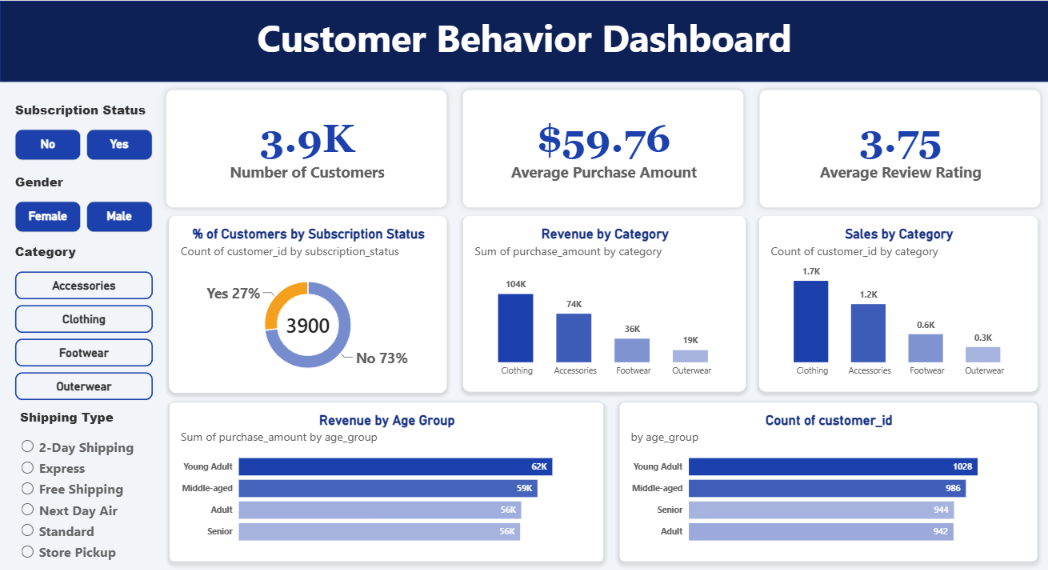

The page's visual inventory and layout, read from the dashboard file:
{"tool":"powerbi","page":{"name":"Page 1","canvas":[1500,820],"ordinal":0},"visuals":[{"type":"cardVisual","fields":{"Data":["public customer.Number of Customers","public customer.Average Purchase Amount","public customer.Average Review Rating"]},"box":[225.7,115.7,1274.3,191.4],"z":2000},{"type":"shape","box":[0,0,1498.6,115.7],"z":3000},{"type":"textbox","box":[0,15.7,1498.6,74.3],"z":4000},{"type":"donutChart","title":"% of Customers by Subscription Status","fields":{"Category":["public customer.subscription_status"],"Y":["CountNonNull(public customer.customer_id)"]},"box":[241.4,307.1,397.1,252.9],"z":6000},{"type":"clusteredColumnChart","title":"Revenue by Category","fields":{"Category":["public customer.category"],"Y":["Sum(public customer.purchase_amount)"]},"box":[661.4,307.1,404.3,251.4],"z":9000},{"type":"clusteredColumnChart","title":"Sales by Category","fields":{"Category":["public customer.category"],"Y":["CountNonNull(public customer.customer_id)"]},"box":[1084.3,307.1,398.6,251.4],"z":10000},{"type":"advancedSlicerVisual","fields":{"Values":["public customer.subscription_status"]},"box":[21.4,142.9,197.1,85.7],"z":12000},{"type":"advancedSlicerVisual","fields":{"Values":["public customer.gender"]},"box":[21.4,245.7,197.1,85.7],"z":13000},{"type":"advancedSlicerVisual","fields":{"Values":["public customer.category"]},"box":[21.4,345.7,197.1,227.1],"z":14000},{"type":"listSlicer","fields":{"Values":["public customer.shipping_type"]},"box":[28.6,581.4,197.1,220],"z":15000},{"type":"clusteredBarChart","fields":{"Category":["public customer.age_group"],"Y":["CountNonNull(public customer.customer_id)"]},"box":[884.3,572.9,598.6,228.6],"z":17000},{"type":"clusteredBarChart","title":"Revenue by Age Group","fields":{"Category":["public customer.age_group"],"Y":["Sum(public customer.purchase_amount)"]},"box":[241.4,572.9,621.4,228.6],"z":17500,"group":"g1"},{"type":"group","id":"g1","title":"Group 1","box":[241.4,572.9,621.4,228.6],"z":17501}]}

Visuals, with their boxes in screenshot pixels (x1, y1, x2, y2), scaled from the page's 1500x820 canvas onto the 1048x570 screenshot:
cardVisual - public customer.Number of Customers x public customer.Average Purchase Amount: <region>158, 80, 1047, 213</region>
shape: <region>0, 0, 1047, 80</region>
textbox: <region>0, 11, 1047, 63</region>
"% of Customers by Subscription Status" donutChart: <region>169, 213, 446, 389</region>
"Revenue by Category" clusteredColumnChart: <region>462, 213, 745, 388</region>
"Sales by Category" clusteredColumnChart: <region>758, 213, 1036, 388</region>
advancedSlicerVisual - public customer.subscription_status: <region>15, 99, 153, 159</region>
advancedSlicerVisual - public customer.gender: <region>15, 171, 153, 230</region>
advancedSlicerVisual - public customer.category: <region>15, 240, 153, 398</region>
listSlicer - public customer.shipping_type: <region>20, 404, 158, 557</region>
clusteredBarChart - public customer.age_group x CountNonNull(public customer.customer_id): <region>618, 398, 1036, 557</region>
"Revenue by Age Group" clusteredBarChart: <region>169, 398, 603, 557</region>
"Group 1" group: <region>169, 398, 603, 557</region>
